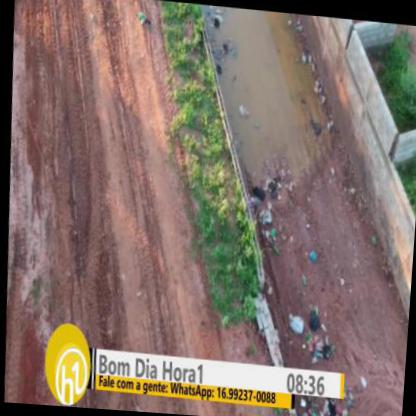agua: (226, 9, 323, 138)
